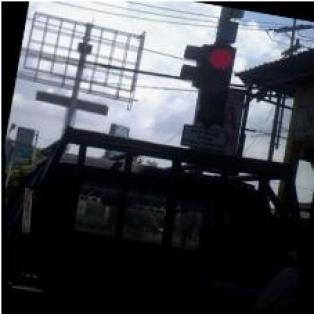Semaforo Rojo: (192, 41, 240, 126)
